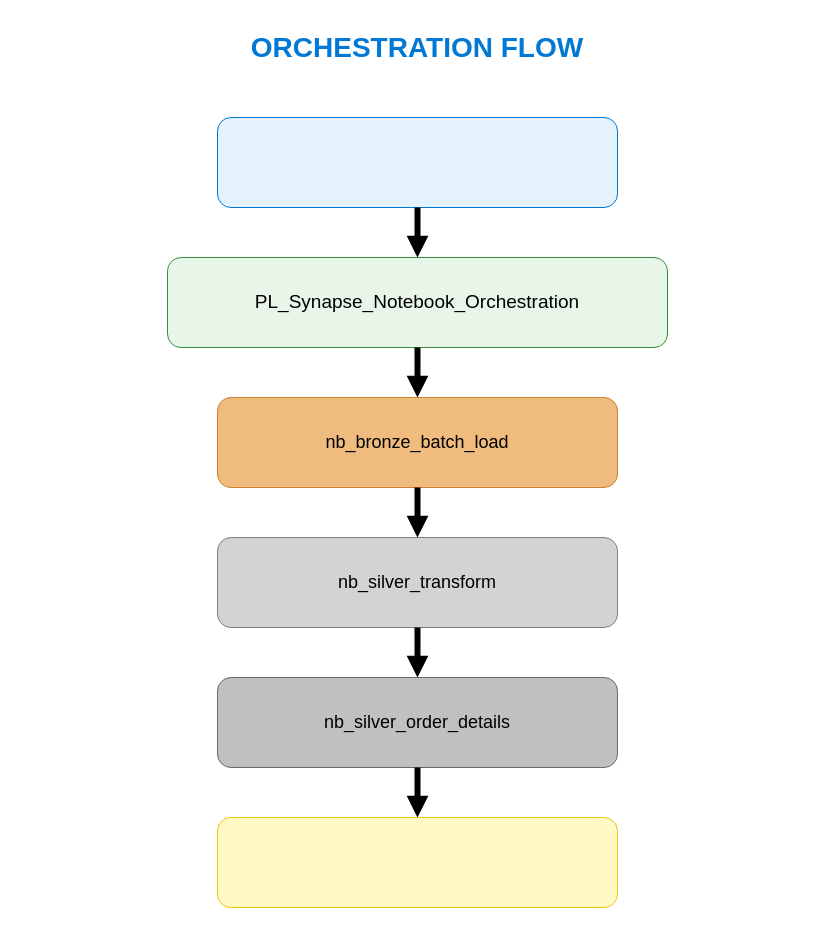
This 834x925 diagram has some shape labels left out. Here are the shapes that lost their labels. From the top down, the box of each, then its label:
(216, 116, 618, 208): ADF Trigger (3 hours)
(216, 816, 618, 908): nb_gold_metrics
